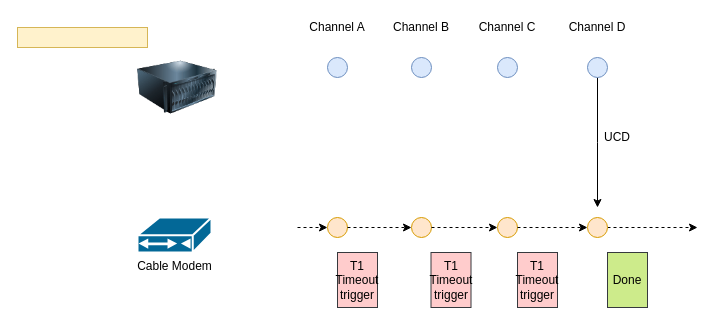
This 723x325 diagram has some shape labels left out. Here are the shapes that lost their labels. From the top down, the centre of each, then its label:
(82,37): T1 Timeout
(177,87): CMTA
